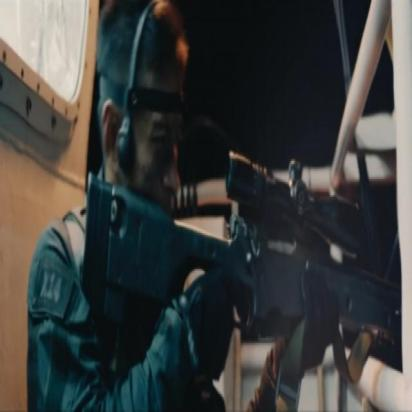Gun: (82, 143, 412, 356)
